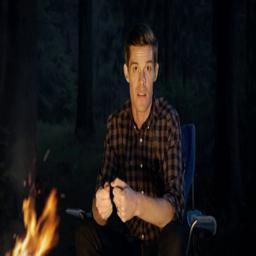fire: (8, 190, 58, 256)
